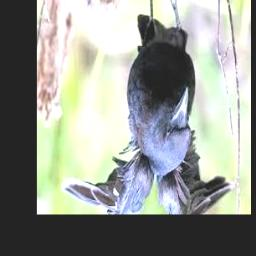Crow: (60, 0, 233, 214)
